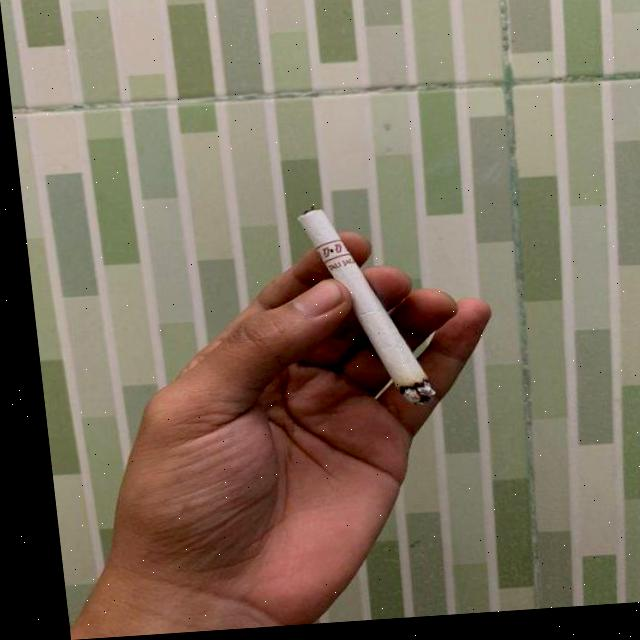cigarette: (292, 201, 429, 418)
